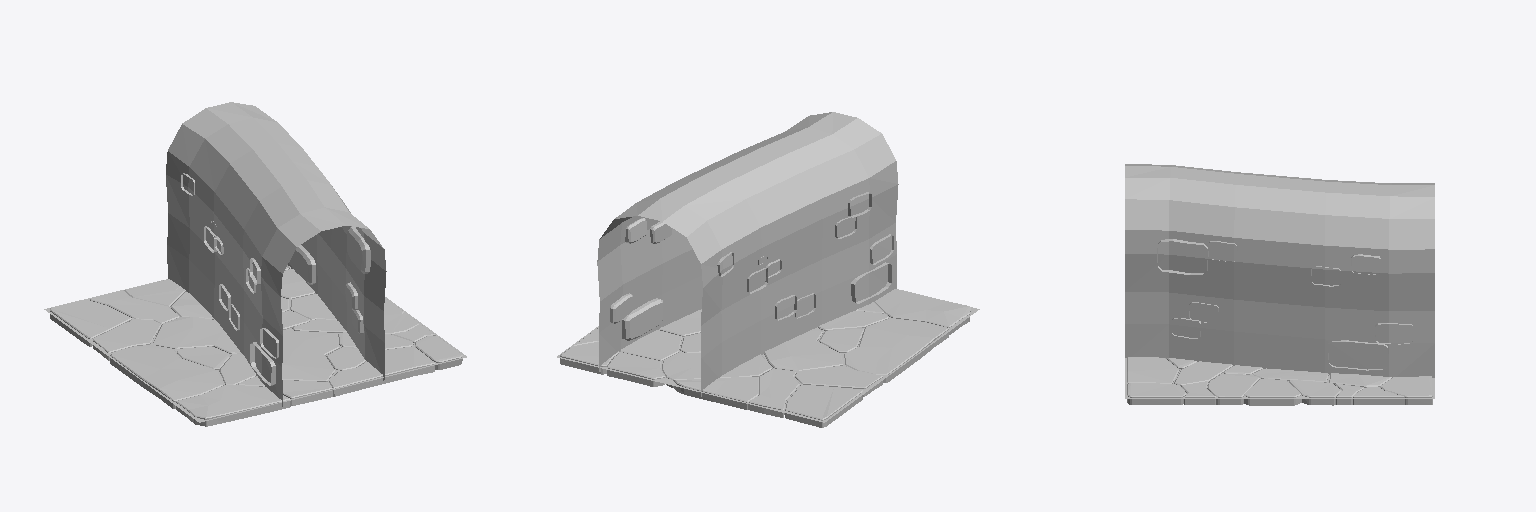
File: Hallway_toStaircase_Top.obj
3 renders of one model, left to right at view 1: azimuth 30°, elevation 25°; view 2: azimuth 150°, elevation 25°; view 3: azimuth 270°, elevation 25°, orthographic.
Visible parts, largest first — view 1: Hallway_toStaircase_Top; view 2: Hallway_toStaircase_Top; view 3: Hallway_toStaircase_Top.
Boxes of the visible parts, box(x1,y1,x2,y2) form: Hallway_toStaircase_Top: box(44, 102, 466, 426); Hallway_toStaircase_Top: box(557, 112, 979, 427); Hallway_toStaircase_Top: box(1125, 164, 1434, 405).
Bounding box in the file's own units: 4 × 2.42 × 4.